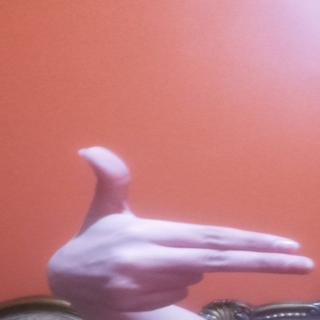GHAYN: (28, 144, 320, 310)
